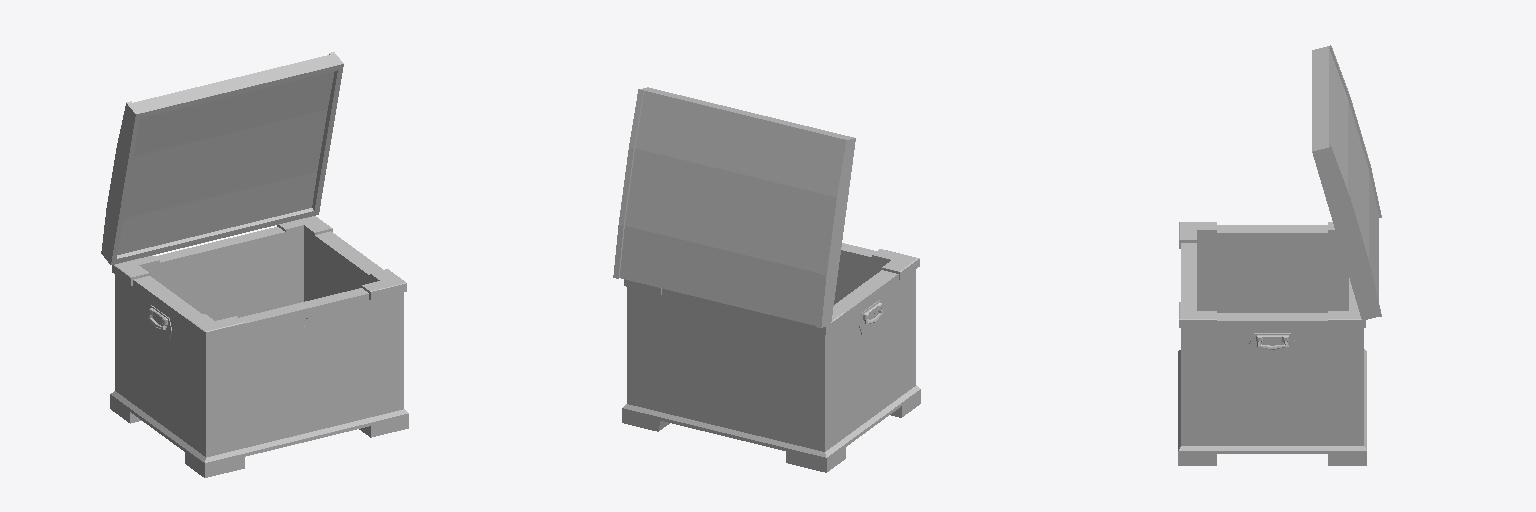
The model's file is WOH_Asset_Pandoras_Box.obj.
3 renders of one model, left to right at view 1: azimuth 30°, elevation 25°; view 2: azimuth 150°, elevation 25°; view 3: azimuth 270°, elevation 25°, orthographic.
Visible parts, largest first — view 1: polySurface8; view 2: polySurface8; view 3: polySurface8.
Part boxes in pixels (x1,y1,x2,y2): polySurface8: (101,52,408,477); polySurface8: (613,87,920,472); polySurface8: (1178,45,1381,465).
Bounding box in the file's own units: 106 × 155 × 88.8.